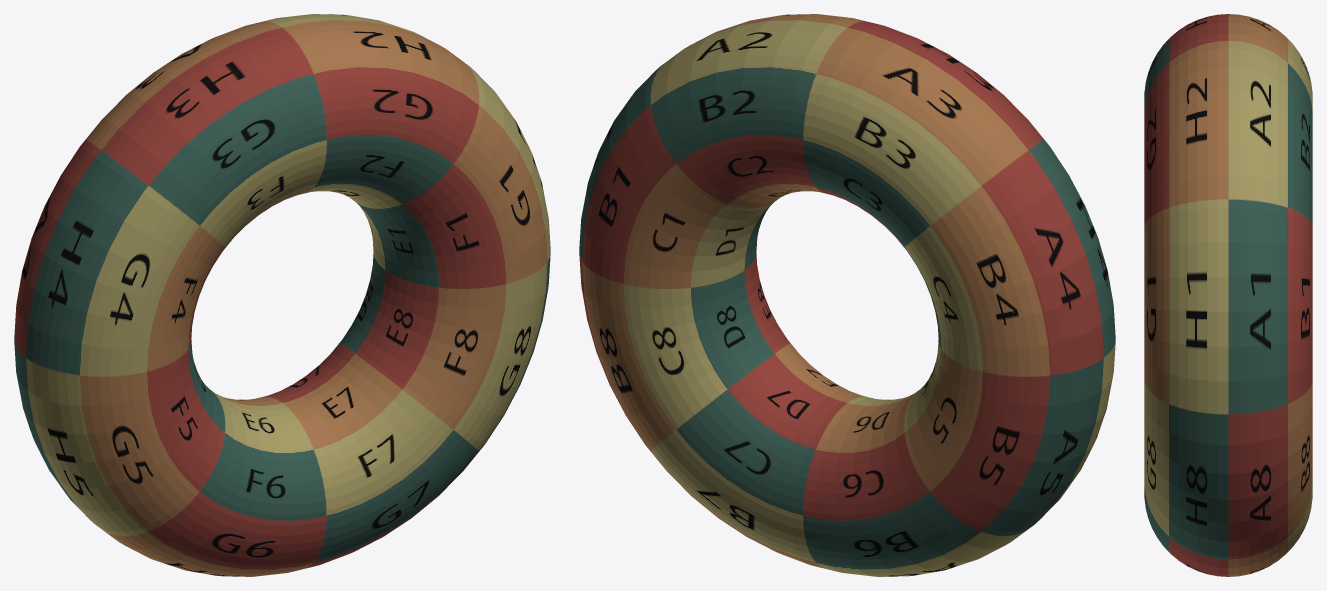
Rendered from texture_torus_R7_r16.glb.
The picture shows the model from 3 angles, left to right: view 1: azimuth 30°, elevation 25°; view 2: azimuth 150°, elevation 25°; view 3: azimuth 270°, elevation 25°; orthographic projection. The views are drawn at different scales.
Parts seen in each view (by area): view 1: world; view 2: world; view 3: world.
Boxes of the visible parts, x1=… form: world: x1=14, y1=14, x2=550, y2=576; world: x1=579, y1=14, x2=1115, y2=576; world: x1=1144, y1=14, x2=1312, y2=576.
Bounding box in the file's own units: 20.93 × 20.89 × 6.25.
Materials: 1 (1 with a texture image).
